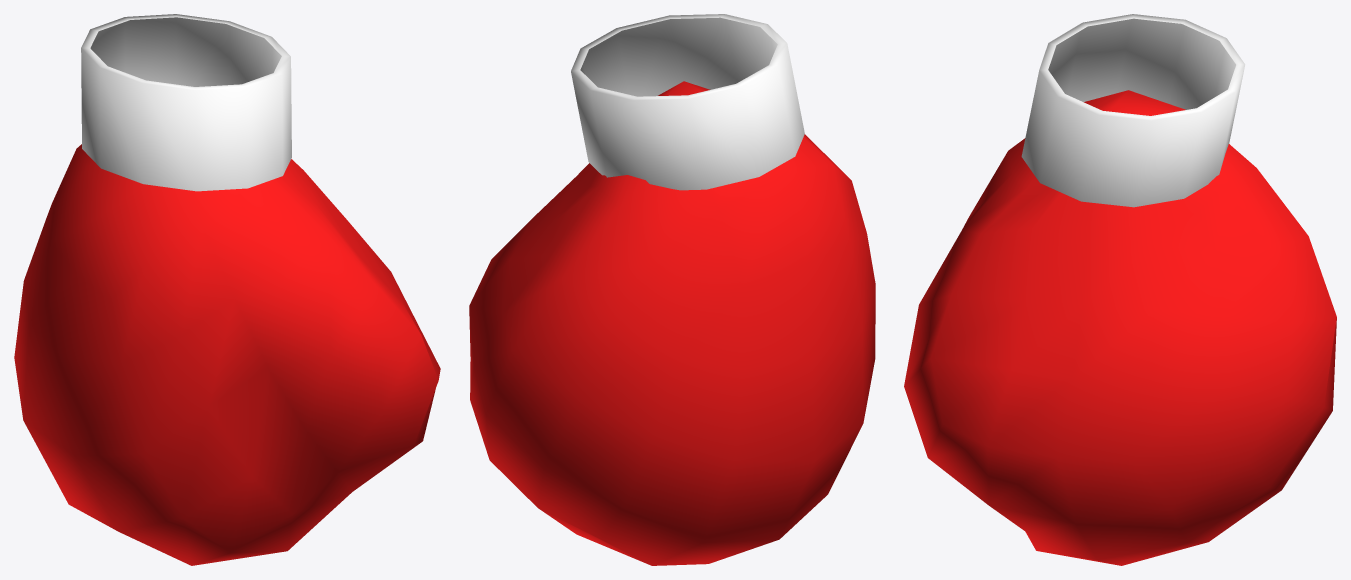
The model's file is Gloves_Box.fbx.
3 views of the same model, side by side, from view 1: azimuth 30°, elevation 25°; view 2: azimuth 150°, elevation 25°; view 3: azimuth 270°, elevation 25° (orthographic). The views are drawn at different scales.
Parts seen in each view (by area): view 1: Gloves_Box.001; view 2: Gloves_Box.001; view 3: Gloves_Box.001.
Part boxes in pixels (x1,y1,x2,y2): Gloves_Box.001: [14, 14, 440, 565]; Gloves_Box.001: [469, 14, 875, 565]; Gloves_Box.001: [904, 14, 1336, 565].
Bounding box in the file's own units: 21.55 × 30.4 × 24.72.
